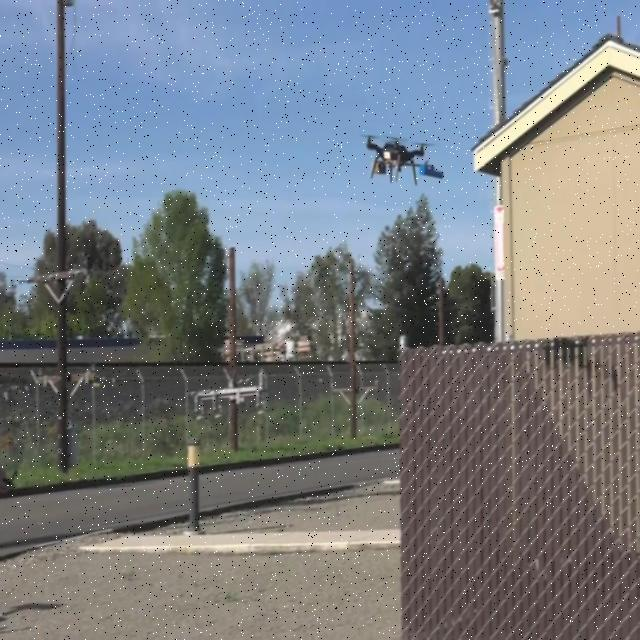UAV: (364, 131, 426, 185)
